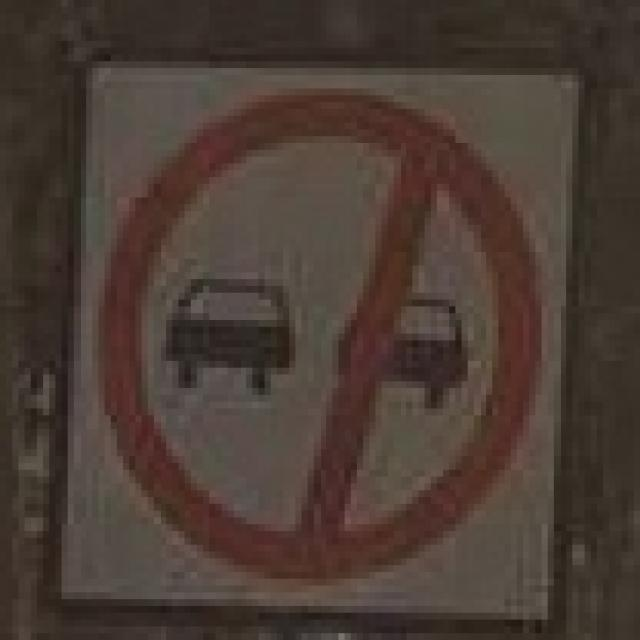overtaking prohibited: (94, 85, 544, 594)
